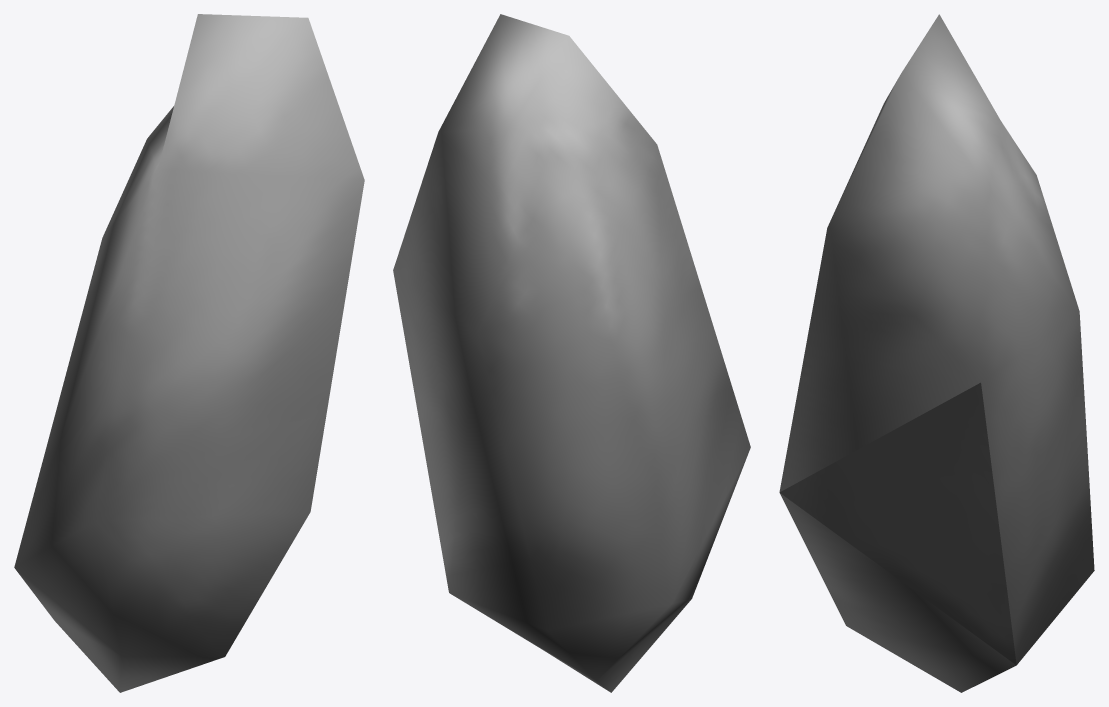
File: SM_Rocks_11.obj
3 views of the same model, side by side, from view 1: azimuth 30°, elevation 25°; view 2: azimuth 150°, elevation 25°; view 3: azimuth 270°, elevation 25° (orthographic). The views are drawn at different scales.
Parts seen in each view (by area): view 1: SM_Rocks_11; view 2: SM_Rocks_11; view 3: SM_Rocks_11.
Boxes of the visible parts, x1=… form: SM_Rocks_11: x1=14, y1=14, x2=364, y2=692; SM_Rocks_11: x1=393, y1=14, x2=750, y2=692; SM_Rocks_11: x1=779, y1=14, x2=1094, y2=692.
Size of the model in its own units: 0.3514 by 0.7172 by 0.2953.
Materials: 1 (1 with a texture image).
